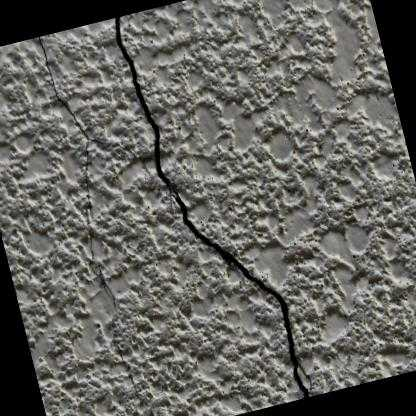crack: (110, 15, 311, 399)
